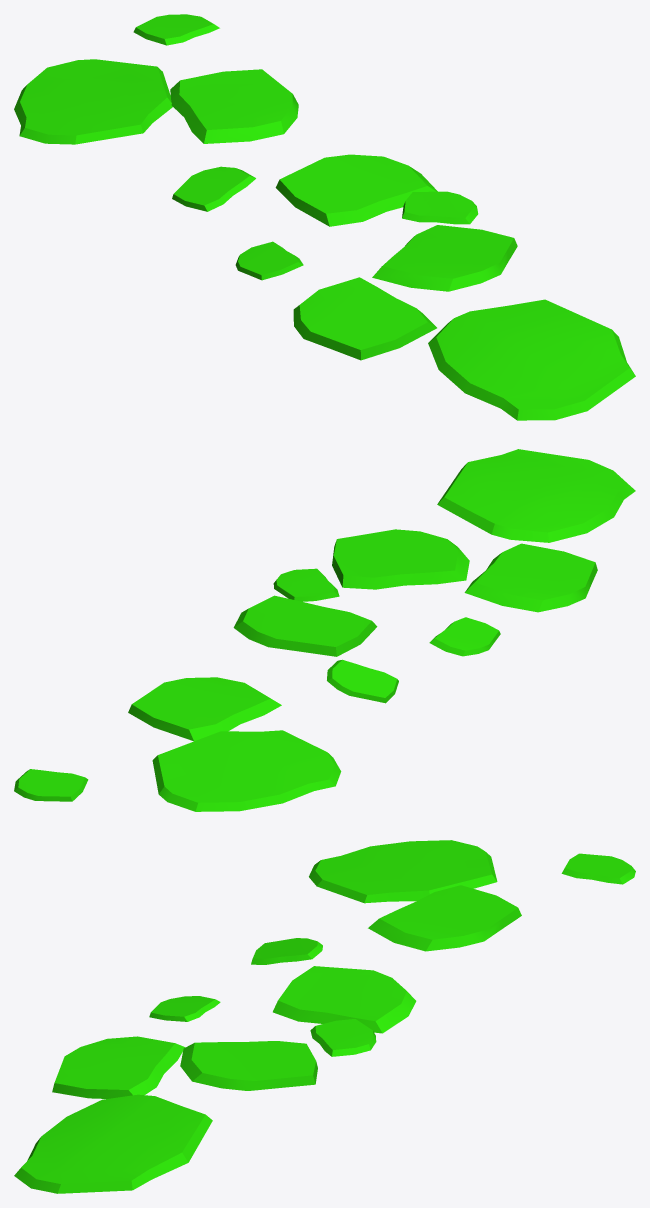
File: Debris_Concrete_06B.fbx
The picture shows the model from 3 angles, top to bottom: view 1: azimuth 30°, elevation 25°; view 2: azimuth 150°, elevation 25°; view 3: azimuth 330°, elevation 25°; orthographic projection. The views are drawn at different scales.
Visible parts, largest first — view 1: Debris_Concrete_06B; view 2: Debris_Concrete_06B; view 3: Debris_Concrete_06B.
Boxes of the visible parts, <box> form: Debris_Concrete_06B: <box>14,14,635,420</box>; Debris_Concrete_06B: <box>14,449,635,811</box>; Debris_Concrete_06B: <box>14,840,635,1193</box>.
Bounding box in the file's own units: 79.1 × 8.73 × 265.
